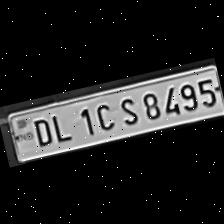1: (70, 103, 98, 139)
4: (156, 82, 182, 118)
5: (193, 74, 219, 109)
8: (136, 87, 162, 122)
9: (174, 78, 200, 113)
C: (90, 97, 117, 133)
D: (28, 113, 56, 148)
L: (46, 106, 75, 144)
S: (114, 92, 142, 127)
